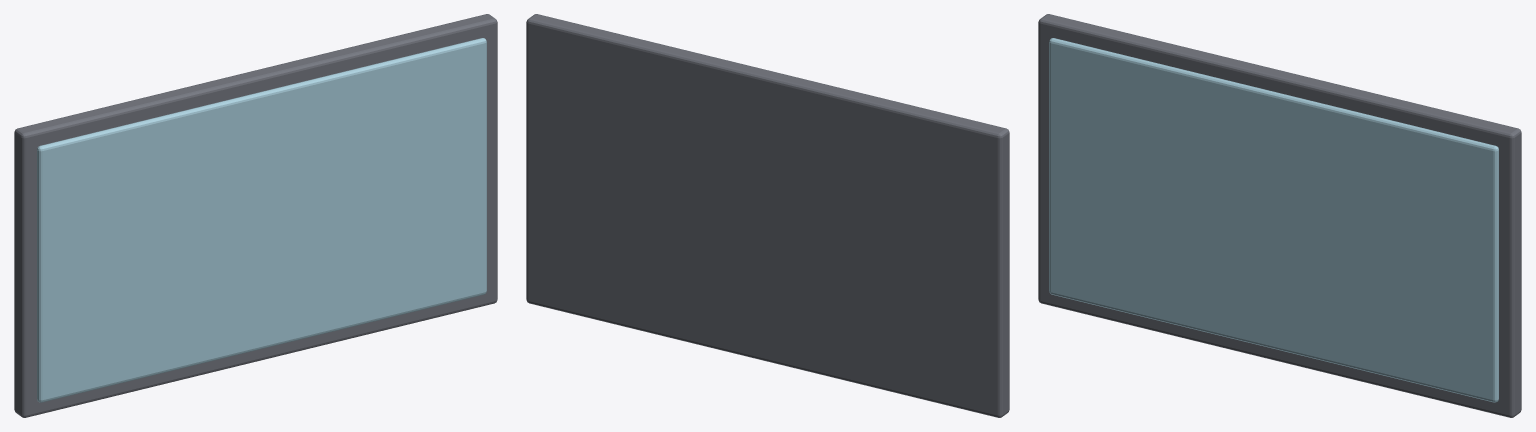
Rendered from WallTv.fbx.
3 views of the same model, side by side, from view 1: azimuth 30°, elevation 25°; view 2: azimuth 150°, elevation 25°; view 3: azimuth 330°, elevation 25° (orthographic).
Parts seen in each view (by area): view 1: WallTv; view 2: WallTv; view 3: WallTv.
Boxes of the visible parts, box(x1,y1,x2,y2) form: WallTv: box(14, 14, 497, 417); WallTv: box(526, 14, 1009, 417); WallTv: box(1038, 14, 1521, 417).
Bounding box in the file's own units: 1.4 × 0.8 × 0.065.
